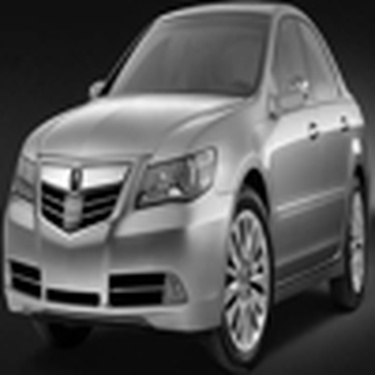car: (6, 4, 371, 371)
